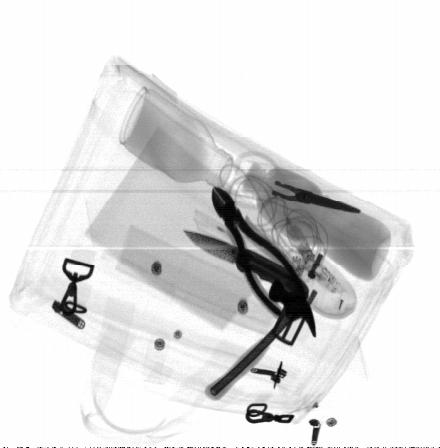Hammer: (204, 276, 317, 403)
Knife: (182, 228, 310, 303)
Pliers: (210, 185, 311, 320)
Scissors: (223, 148, 361, 215)
